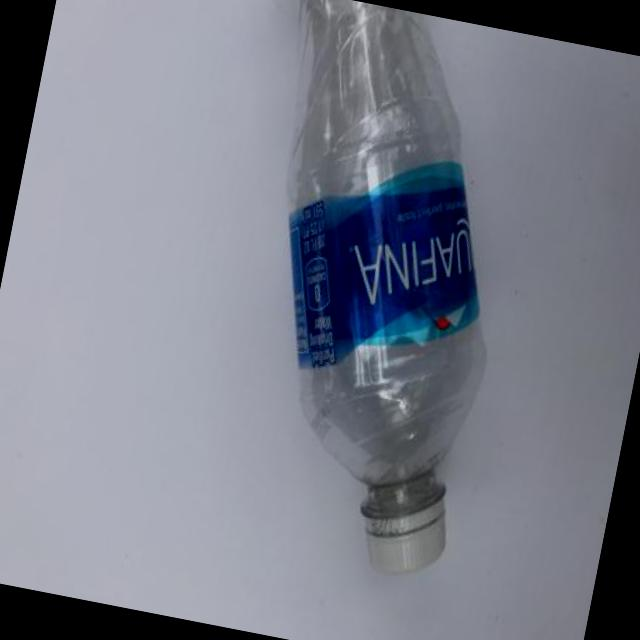Recycle: (170, 0, 553, 591)
